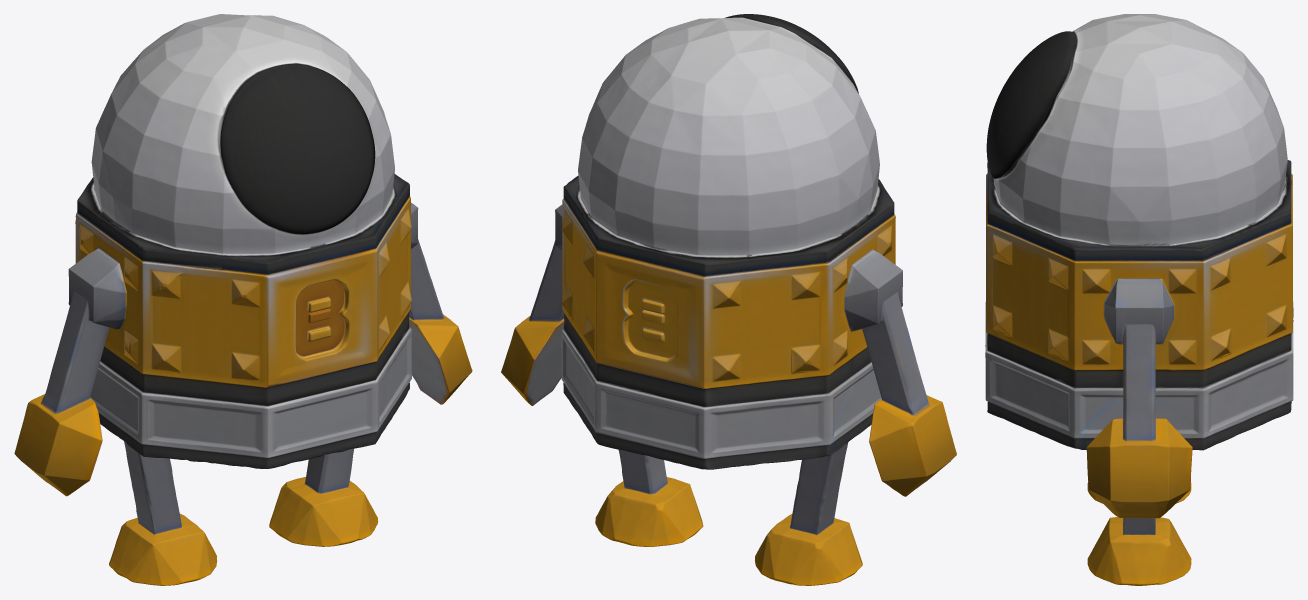
The model's file is robot.glb.
3 renders of one model, left to right at view 1: azimuth 30°, elevation 25°; view 2: azimuth 150°, elevation 25°; view 3: azimuth 270°, elevation 25°, orthographic. The views are drawn at different scales.
Visible parts, largest first — view 1: tripo_node_89e63c46-e4aa-4364-9caa-5a39bbb14a79; view 2: tripo_node_89e63c46-e4aa-4364-9caa-5a39bbb14a79; view 3: tripo_node_89e63c46-e4aa-4364-9caa-5a39bbb14a79.
Part boxes in pixels (<box>): tripo_node_89e63c46-e4aa-4364-9caa-5a39bbb14a79: <box>14,14,472,585</box>; tripo_node_89e63c46-e4aa-4364-9caa-5a39bbb14a79: <box>501,14,956,585</box>; tripo_node_89e63c46-e4aa-4364-9caa-5a39bbb14a79: <box>985,14,1293,585</box>.
Size of the model in its own units: 0.8715 by 1 by 0.5592.
1 material, 1 textured.
